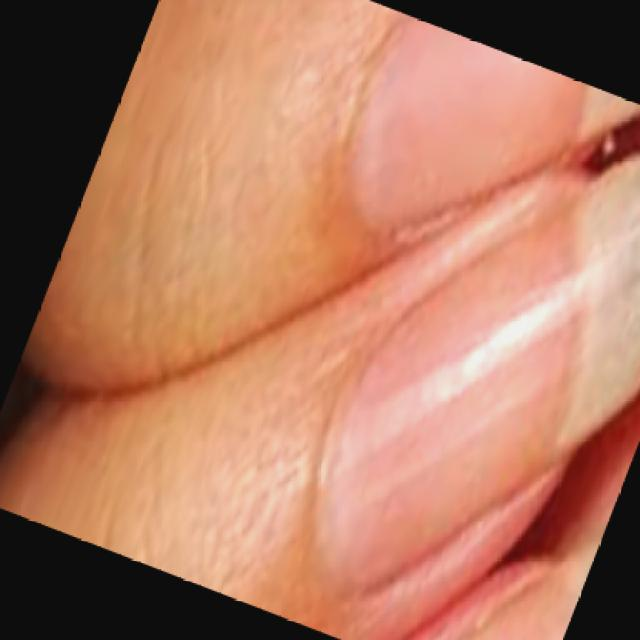Nail: (320, 151, 639, 589), (350, 19, 640, 226)
